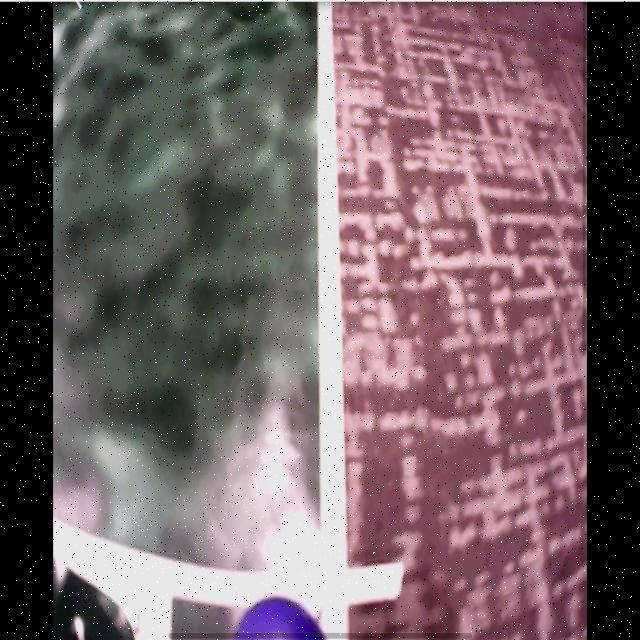ball: (234, 595, 329, 640)
